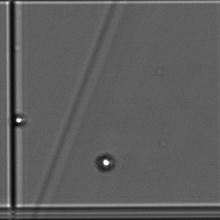Living Cell: (93, 150, 118, 171), (11, 111, 28, 131)
